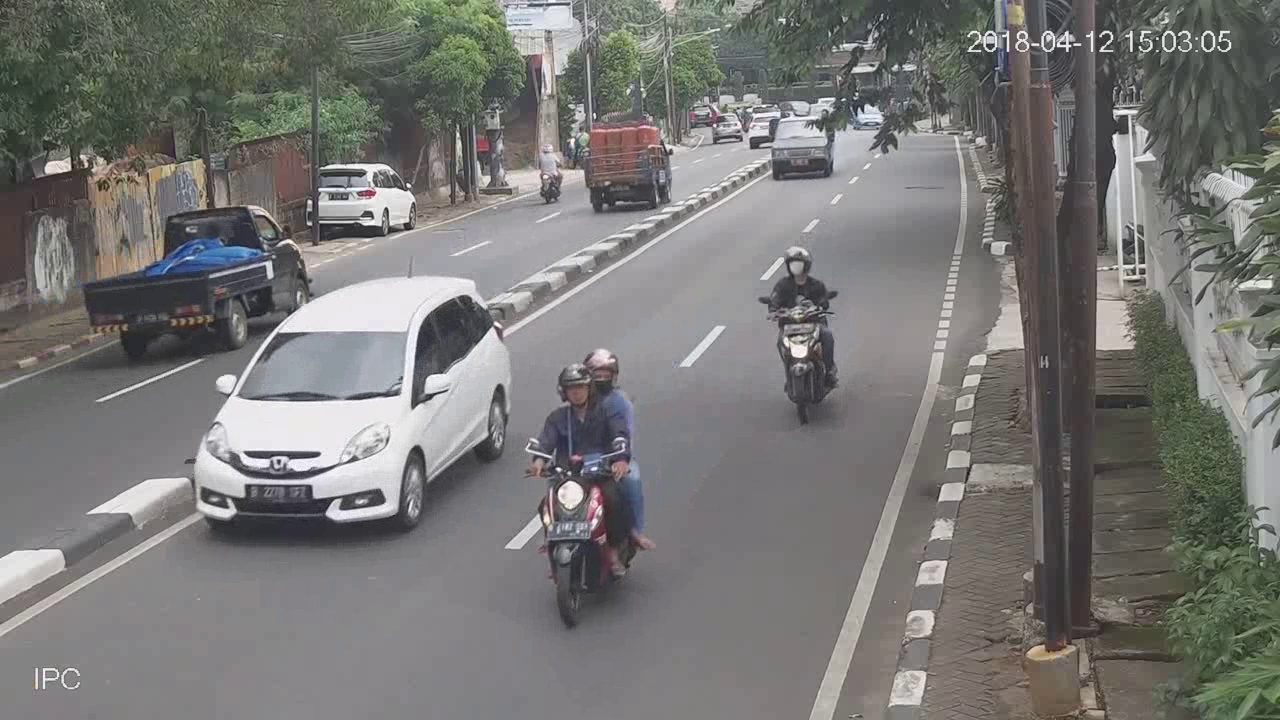car: (193, 274, 512, 531), (305, 160, 422, 236), (770, 115, 834, 178)
motorcycle: (524, 349, 657, 628), (756, 243, 844, 426), (535, 141, 566, 203)
truck: (74, 202, 315, 349), (583, 121, 676, 212)
